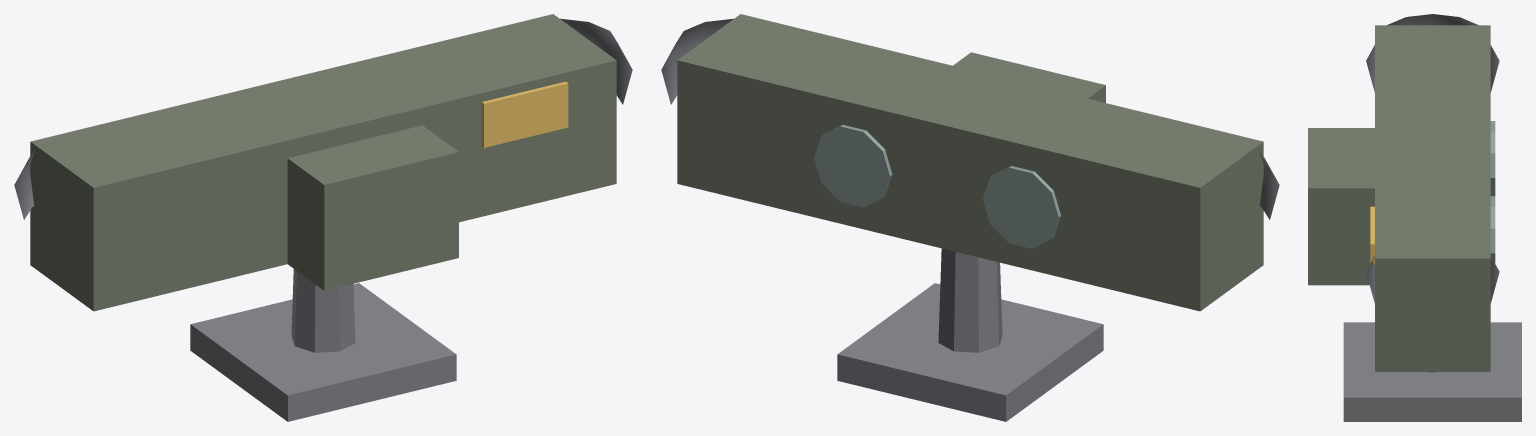
The model's file is armoured-column-and-field-camp-rangefinder-425ed101__23735.glb.
3 views of the same model, side by side, from view 1: azimuth 30°, elevation 25°; view 2: azimuth 150°, elevation 25°; view 3: azimuth 270°, elevation 25° (orthographic). The views are drawn at different scales.
Visible parts, largest first — view 1: rangefinder; view 2: rangefinder; view 3: rangefinder.
Boxes of the visible parts, x1=… form: rangefinder: x1=14, y1=14, x2=632, y2=421; rangefinder: x1=661, y1=14, x2=1279, y2=421; rangefinder: x1=1308, y1=14, x2=1521, y2=421.
Bounding box in the file's own units: 0.71 × 0.3 × 0.24.
